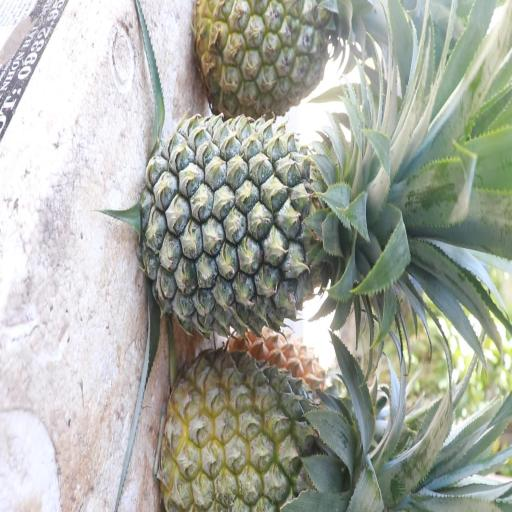------------------------------: (161, 342, 364, 512), (194, 0, 345, 116)
